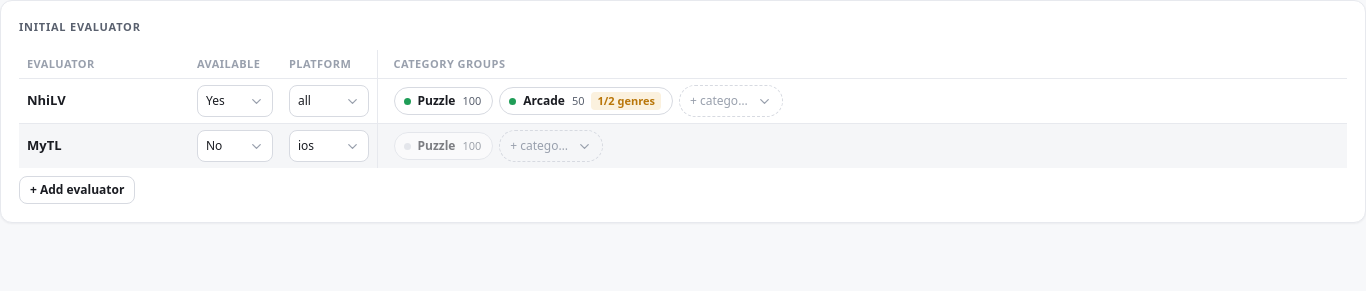
Scenario: RosterTable › stored 'All' renders as every genre ticked, not as an All box
Click the button with aria-label "Puzzle,": {"x": 443, "y": 101} [394,87,493,115]
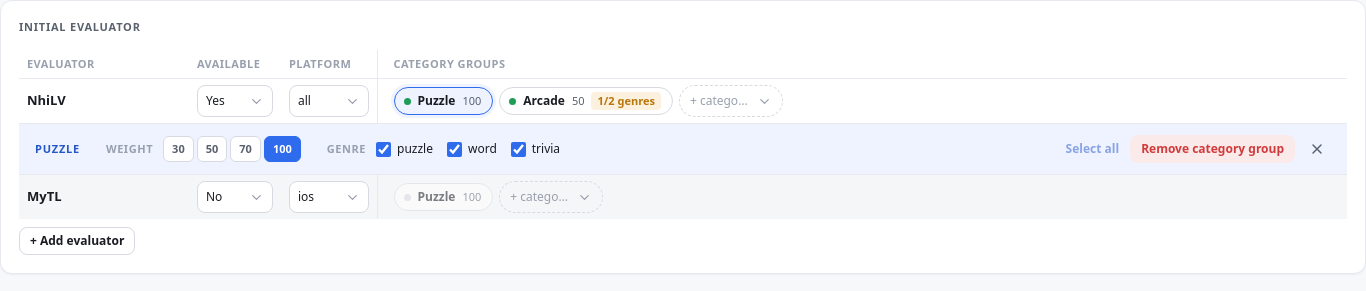
Now the checkbox labelled "puzzle" is checked, box [376,142,391,156]
Now the checkbox labelled "word" is checked, box [447,142,462,156]
Now the checkbox labelled "trivia" is checked, box [511,142,526,156]
